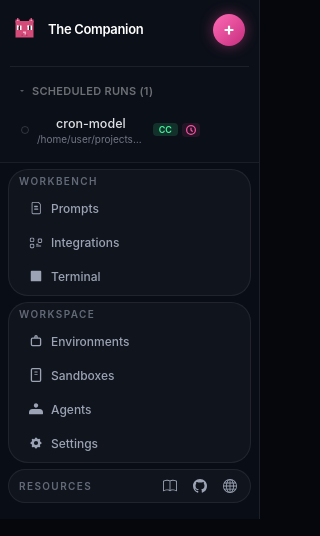
Sidebar › toggling Scheduled Runs section hides/shows cron sessions
The width and height of the screenshot is (320, 536).
Expected: the text "cron-model" is shown, [56,116,126,130]
Note: Click to collapse
Click the button "Scheduled Runs (1)" at (130, 91), box [10,79,249,104]
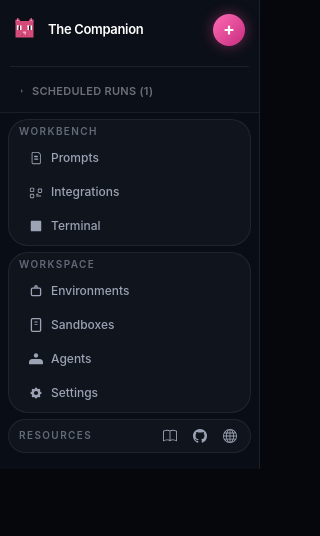
Result: the button "cron-model" is gone
Note: Click again to expand
Click the button "Scheduled Runs (1)" at (130, 91), box [10,79,249,104]
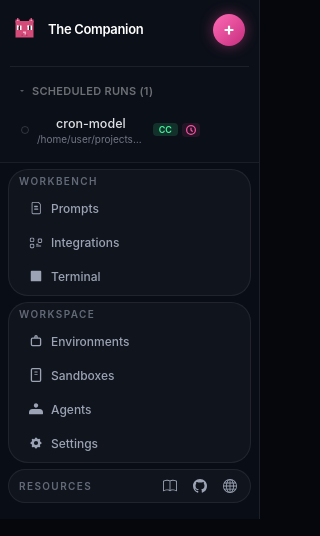
Result: the text "cron-model" is shown at [56,116,126,130]
